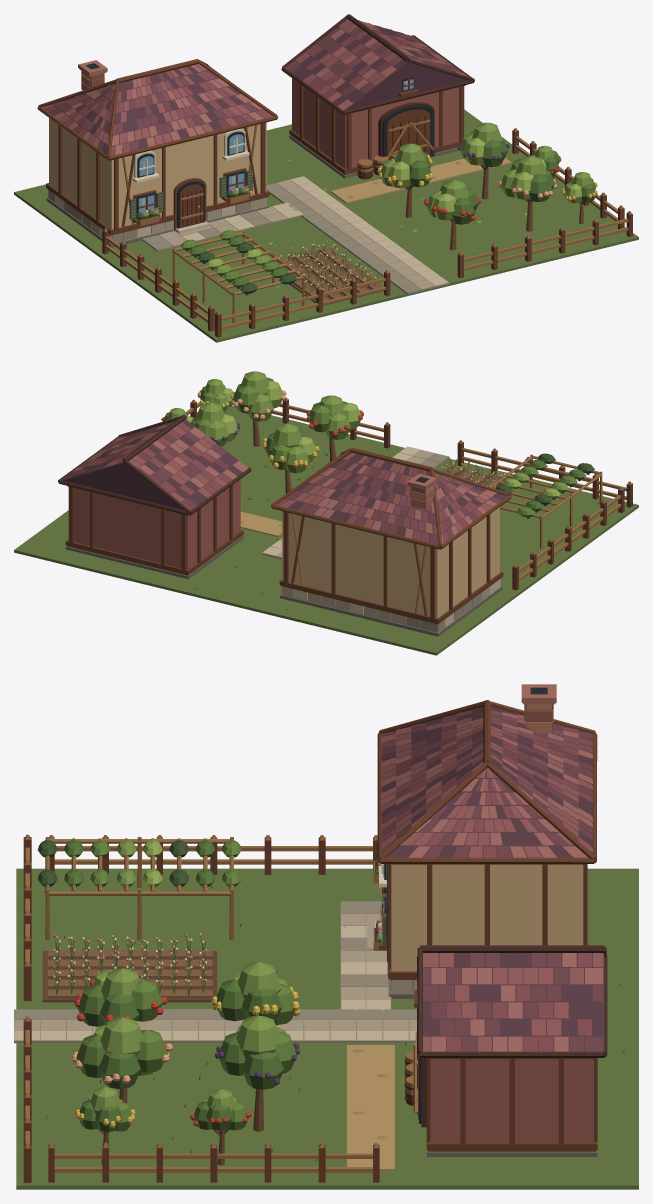
The model's file is farm-nivel-6.glb.
3 renders of one model, top to bottom at view 1: azimuth 30°, elevation 25°; view 2: azimuth 150°, elevation 25°; view 3: azimuth 270°, elevation 25°, orthographic. The views are drawn at different scales.
Parts seen in each view (by area): view 1: Fazenda 06 #677a42, Fazenda 06 #70432c, Fazenda 06 #593b44, Fazenda 06 #d4b181, Fazenda 06 #9f7145, Fazenda 06 #a06156, Fazenda 06 #824a50, Fazenda 06 #9b8f7c, Fazenda 06 #9e645f, Fazenda 06 #b4a38a, Fazenda 06 #70444a, Fazenda 06 #8f5655 (+16 smaller); view 2: Fazenda 06 #677a42, Fazenda 06 #d4b181, Fazenda 06 #70432c, Fazenda 06 #593b44, Fazenda 06 #a06156, Fazenda 06 #9f7145, Fazenda 06 #7a9448, Fazenda 06 #70444a, Fazenda 06 #824a50, Fazenda 06 #9e645f, Fazenda 06 #8f5655, Fazenda 06 #65823d (+11 smaller); view 3: Fazenda 06 #677a42, Fazenda 06 #70432c, Fazenda 06 #593b44, Fazenda 06 #d4b181, Fazenda 06 #a06156, Fazenda 06 #9f7145, Fazenda 06 #70444a, Fazenda 06 #567337, Fazenda 06 #8f5655, Fazenda 06 #9e645f, Fazenda 06 #824a50, Fazenda 06 #65823d (+13 smaller).
Boxes of the visible parts, x1=… form: Fazenda 06 #677a42: x1=14, y1=109, x2=638, y2=342; Fazenda 06 #70432c: x1=37, y1=59, x2=632, y2=337; Fazenda 06 #593b44: x1=45, y1=22, x2=467, y2=155; Fazenda 06 #d4b181: x1=49, y1=118, x2=266, y2=229; Fazenda 06 #9f7145: x1=103, y1=122, x2=631, y2=329; Fazenda 06 #a06156: x1=292, y1=78, x2=464, y2=168; Fazenda 06 #824a50: x1=44, y1=23, x2=462, y2=155; Fazenda 06 #9b8f7c: x1=48, y1=180, x2=449, y2=294; Fazenda 06 #9e645f: x1=42, y1=21, x2=468, y2=154; Fazenda 06 #b4a38a: x1=48, y1=137, x2=455, y2=289; Fazenda 06 #70444a: x1=49, y1=24, x2=458, y2=151; Fazenda 06 #8f5655: x1=58, y1=19, x2=453, y2=144; Fazenda 06 #677a42: x1=14, y1=405, x2=638, y2=655; Fazenda 06 #d4b181: x1=282, y1=507, x2=499, y2=618; Fazenda 06 #70432c: x1=65, y1=399, x2=632, y2=624; Fazenda 06 #593b44: x1=63, y1=419, x2=507, y2=542; Fazenda 06 #a06156: x1=68, y1=479, x2=240, y2=569; Fazenda 06 #9f7145: x1=185, y1=391, x2=631, y2=613; Fazenda 06 #7a9448: x1=167, y1=371, x2=569, y2=589; Fazenda 06 #70444a: x1=61, y1=422, x2=501, y2=544; Fazenda 06 #824a50: x1=75, y1=422, x2=482, y2=542; Fazenda 06 #9e645f: x1=73, y1=424, x2=496, y2=543; Fazenda 06 #8f5655: x1=85, y1=421, x2=492, y2=531; Fazenda 06 #65823d: x1=165, y1=385, x2=577, y2=517; Fazenda 06 #677a42: x1=16, y1=868, x2=638, y2=1189; Fazenda 06 #70432c: x1=23, y1=700, x2=597, y2=1182; Fazenda 06 #593b44: x1=381, y1=706, x2=604, y2=1051; Fazenda 06 #d4b181: x1=391, y1=864, x2=583, y2=971; Fazenda 06 #a06156: x1=430, y1=1059, x2=593, y2=1142; Fazenda 06 #9f7145: x1=25, y1=834, x2=417, y2=1172; Fazenda 06 #70444a: x1=381, y1=713, x2=603, y2=1051; Fazenda 06 #567337: x1=64, y1=840, x2=283, y2=1131; Fazenda 06 #8f5655: x1=381, y1=714, x2=603, y2=1051; Fazenda 06 #9e645f: x1=381, y1=712, x2=603, y2=1051; Fazenda 06 #824a50: x1=381, y1=710, x2=592, y2=1051; Fazenda 06 #65823d: x1=54, y1=840, x2=296, y2=1153.
Bounding box in the file's own units: 17.81 × 5.67 × 14.84.
